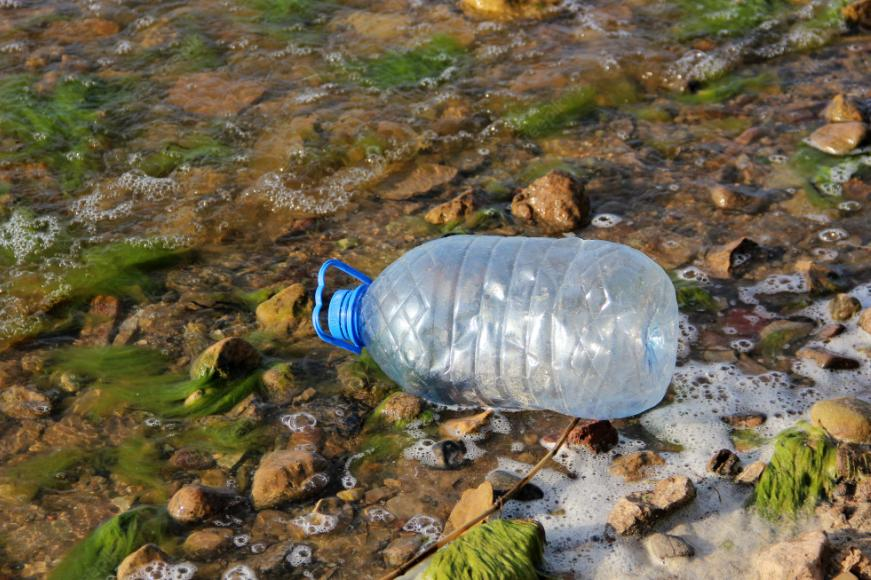bottle: (301, 226, 687, 446)
